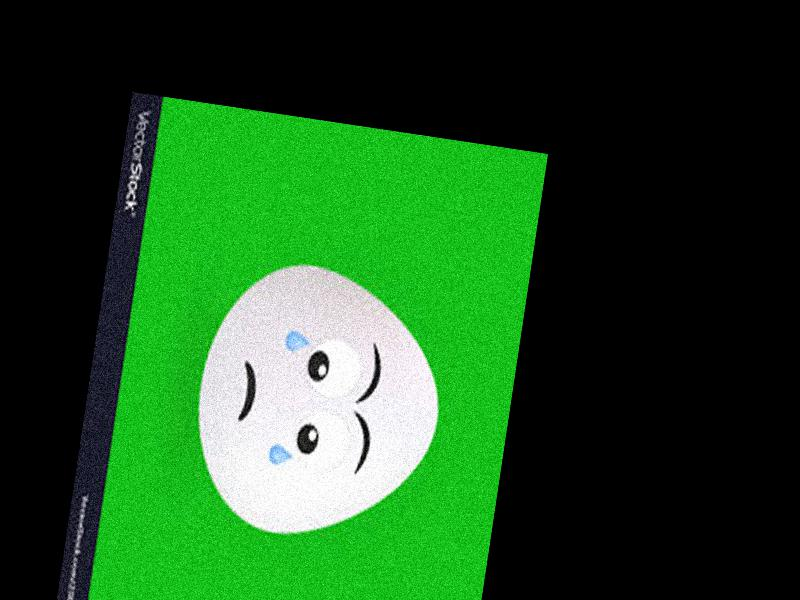Eggs: (181, 249, 455, 551)
